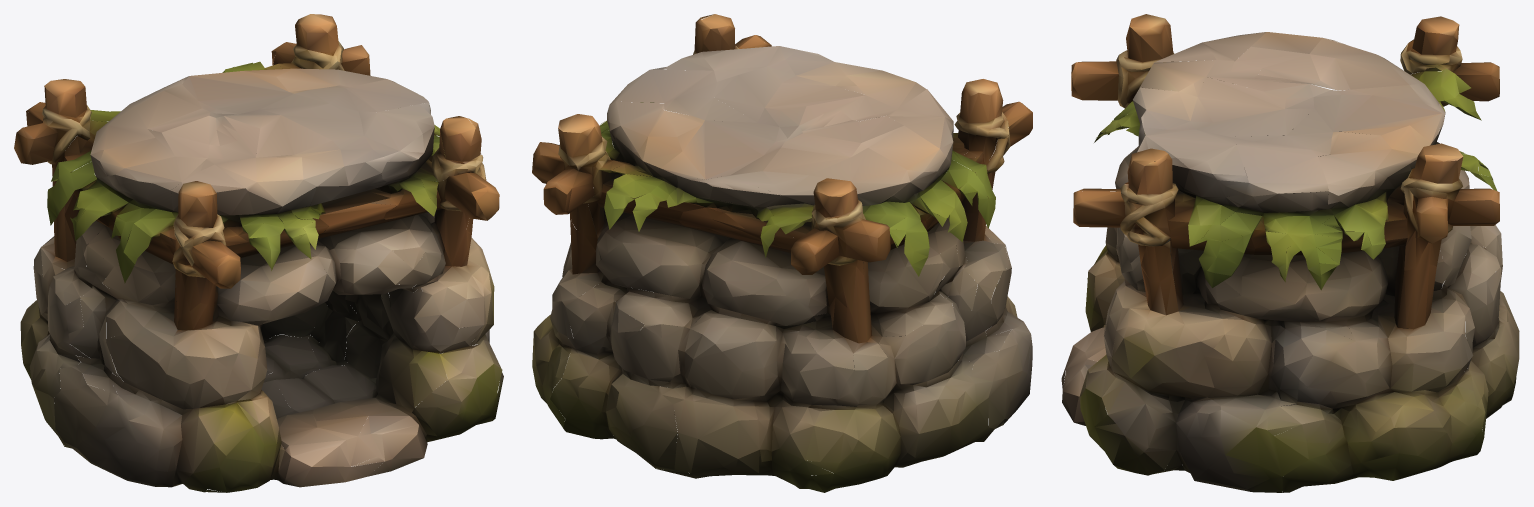
The model's file is building-stove-smooth.glb.
3 renders of one model, left to right at view 1: azimuth 30°, elevation 25°; view 2: azimuth 150°, elevation 25°; view 3: azimuth 270°, elevation 25°, orthographic. The views are drawn at different scales.
Visible parts, largest first — view 1: 0_stove; view 2: 0_stove; view 3: 0_stove.
Part boxes in pixels (x1=…): 0_stove: x1=14, y1=14, x2=503, y2=492; 0_stove: x1=532, y1=14, x2=1032, y2=492; 0_stove: x1=1061, y1=14, x2=1519, y2=492.
Bounding box in the file's own units: 1.83 × 1.26 × 1.69.
